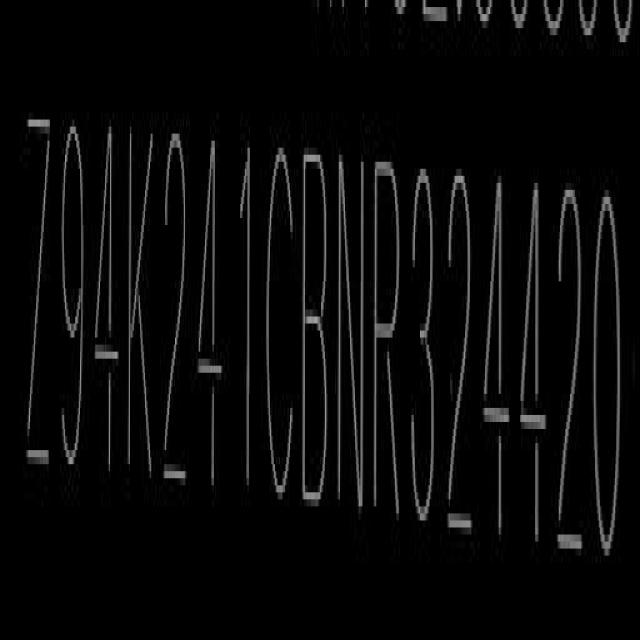0: (592, 185, 626, 570)
1: (235, 138, 252, 487)
2: (446, 167, 479, 552), (555, 183, 586, 568), (161, 115, 191, 508)
3: (410, 158, 438, 543)
4: (516, 176, 550, 564), (195, 127, 226, 504), (482, 170, 512, 558), (92, 122, 121, 480)
9: (58, 117, 88, 492)
B: (302, 140, 332, 518)
C: (264, 130, 295, 524)
K: (125, 110, 160, 498)
N: (335, 144, 368, 526)
R: (372, 143, 403, 537)
Z: (20, 107, 54, 479)
